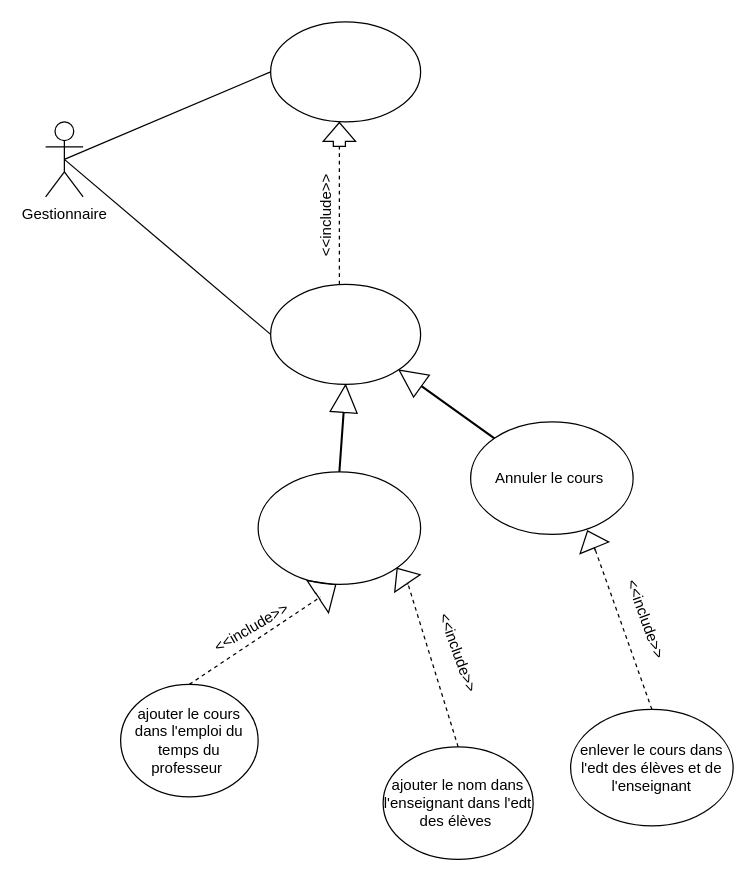
Some shapes in this 755 by 881 pixel diagram are drawn without their labels. Here are the shapes that lost their labels. From the top down, the centre of each, then its label:
At (345,71): "S'authentifier".
At (345,333): "Gérer les absences".
At (339,527): "trouver le professeur remplaçant".
